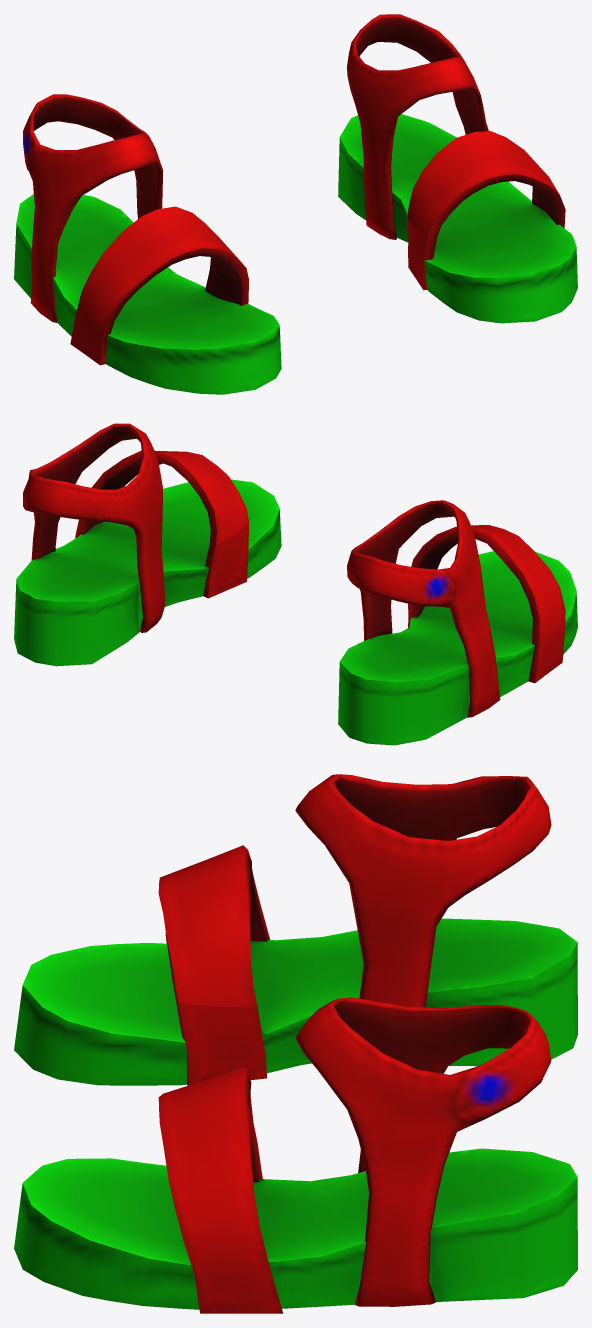
The model's file is Feet_WedgeHeels.obj.
3 views of the same model, one above another, from view 1: azimuth 30°, elevation 25°; view 2: azimuth 150°, elevation 25°; view 3: azimuth 270°, elevation 25° (orthographic). The views are drawn at different scales.
Visible parts, largest first — view 1: Feet_WedgeHeels_0; view 2: Feet_WedgeHeels_0; view 3: Feet_WedgeHeels_0.
Part boxes in pixels (left/top/right/bottom): Feet_WedgeHeels_0: left=14, top=14, right=577, bottom=394; Feet_WedgeHeels_0: left=14, top=423, right=577, bottom=745; Feet_WedgeHeels_0: left=14, top=774, right=577, bottom=1313.
Bounding box in the file's own units: 0.3322 × 0.1225 × 0.239.
1 material, 1 textured.
